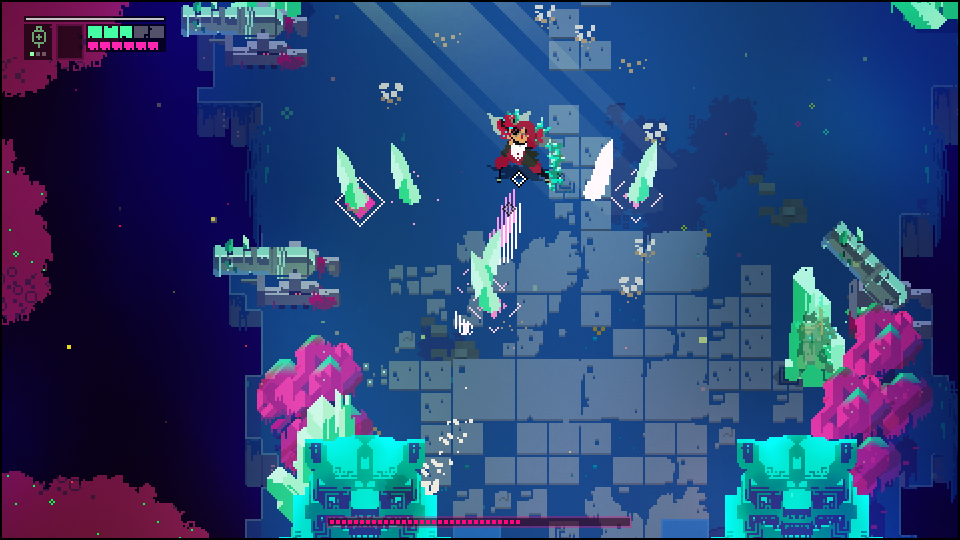hanged_crys: (330, 143, 379, 212), (470, 229, 503, 311), (580, 139, 617, 201), (623, 138, 657, 204), (389, 145, 420, 204)
hanged_man: (484, 104, 564, 200)
